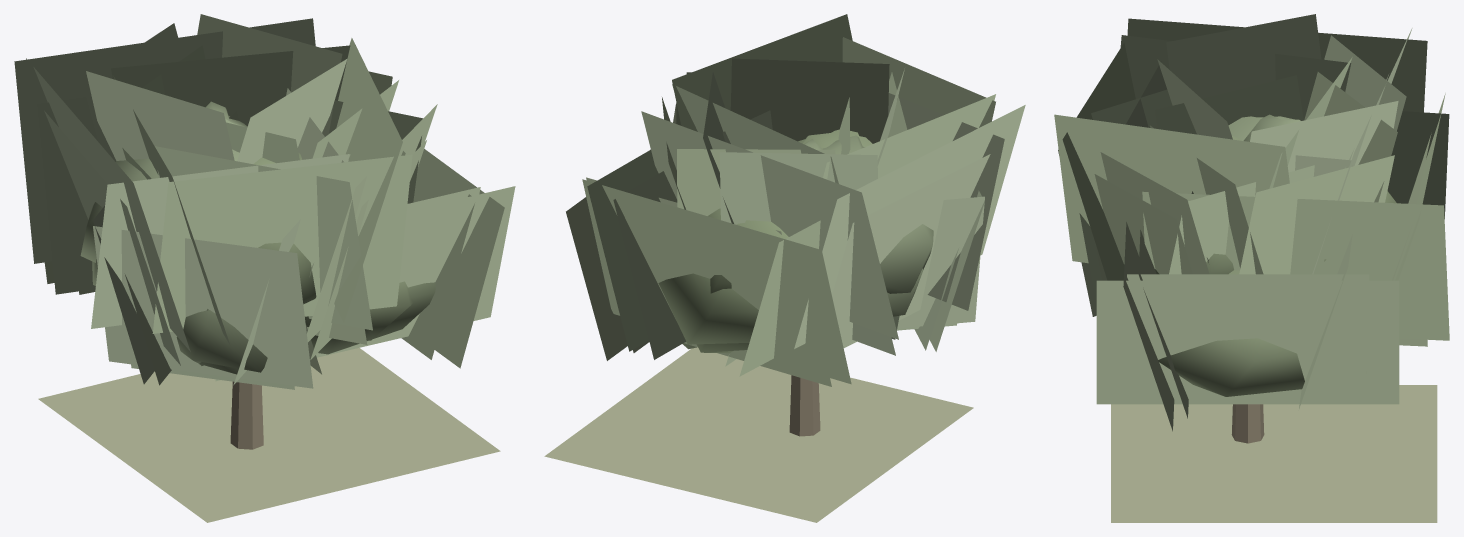
The picture shows the model from 3 angles, left to right: view 1: azimuth 30°, elevation 25°; view 2: azimuth 150°, elevation 25°; view 3: azimuth 270°, elevation 25°; orthographic projection. The views are drawn at different scales.
Parts seen in each view (by area): view 1: Near, Mid, Far; view 2: Near, Mid, Far; view 3: Near, Mid.
Part boxes in pixels (x1,y1,x2,y2): Near: (37, 14, 500, 522); Mid: (14, 18, 515, 388); Far: (206, 281, 413, 340); Near: (544, 14, 1004, 522); Mid: (566, 72, 1025, 384); Far: (708, 208, 788, 293); Near: (1054, 14, 1449, 522); Mid: (1058, 18, 1449, 431).
Bounding box in the file's own units: 1.3 × 1.23 × 1.21.
